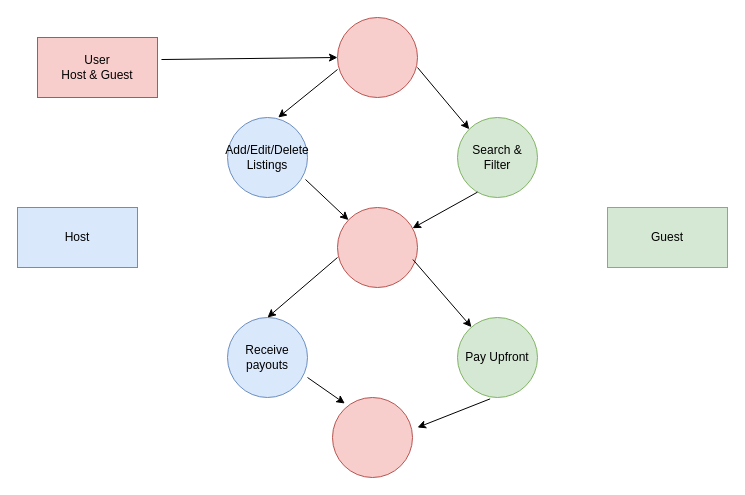
Image size: 745x495. Some labels were removed from this diagram. The centre of each missing label's shape, as x and y in pixels:
Create/Cancel/Check status of booking: the point at 377,247
Receive notifications: the point at 372,437
Registration & Login: the point at 377,57
